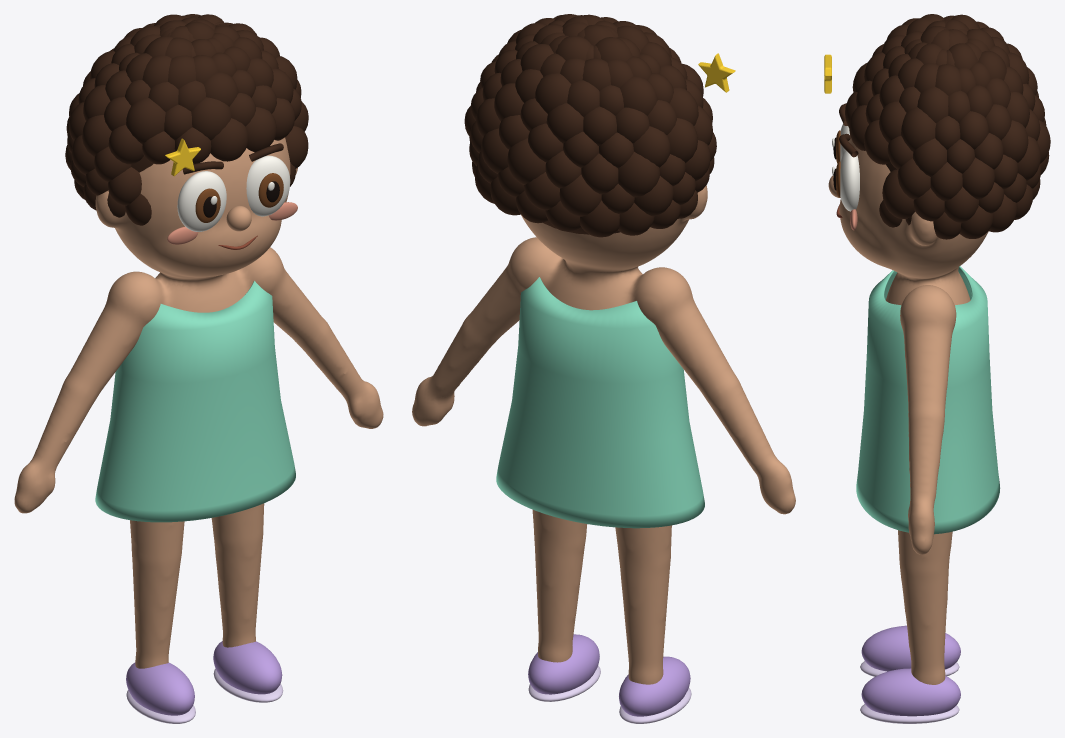
The model's file is maya_src.glb.
The picture shows the model from 3 angles, left to right: view 1: azimuth 30°, elevation 25°; view 2: azimuth 150°, elevation 25°; view 3: azimuth 270°, elevation 25°; orthographic projection. The views are drawn at different scales.
Parts seen in each view (by area): view 1: Maya_Body_Continuous, Mint_Dress, Curly_Dark_Brown_Hair, Lavender_Shoe_-1, Lavender_Shoe_1, Eye_white_-1, Eye_white_1, Sole_1, Sole_-1, Yellow_Star_Hair_Clip; view 2: Curly_Dark_Brown_Hair, Maya_Body_Continuous, Mint_Dress, Lavender_Shoe_-1, Lavender_Shoe_1, Yellow_Star_Hair_Clip, Sole_-1, Sole_1; view 3: Curly_Dark_Brown_Hair, Maya_Body_Continuous, Mint_Dress, Lavender_Shoe_1, Lavender_Shoe_-1, Eye_white_1, Sole_1.
Boxes of the visible parts, x1,y1,x2,y2 form: Maya_Body_Continuous: [14, 137, 383, 668]; Mint_Dress: [95, 281, 295, 522]; Curly_Dark_Brown_Hair: [65, 14, 308, 225]; Lavender_Shoe_-1: [126, 662, 194, 715]; Lavender_Shoe_1: [213, 641, 282, 694]; Eye_white_-1: [177, 171, 226, 231]; Eye_white_1: [246, 155, 290, 216]; Sole_1: [213, 669, 283, 702]; Sole_-1: [126, 690, 195, 723]; Yellow_Star_Hair_Clip: [165, 138, 200, 176]; Curly_Dark_Brown_Hair: [464, 14, 716, 237]; Maya_Body_Continuous: [412, 185, 795, 684]; Mint_Dress: [496, 277, 704, 528]; Lavender_Shoe_-1: [619, 656, 690, 716]; Lavender_Shoe_1: [528, 634, 599, 694]; Yellow_Star_Hair_Clip: [698, 53, 735, 92]; Sole_-1: [619, 688, 691, 723]; Sole_1: [528, 665, 600, 701]; Curly_Dark_Brown_Hair: [845, 14, 1050, 239]; Maya_Body_Continuous: [839, 135, 988, 684]; Mint_Dress: [856, 266, 1000, 534]; Lavender_Shoe_1: [861, 668, 960, 716]; Lavender_Shoe_-1: [861, 625, 960, 671]; Eye_white_1: [840, 150, 859, 211]; Sole_1: [860, 704, 959, 723].
Bounding box in the file's own units: 0.8816 × 1.53 × 0.4685.
